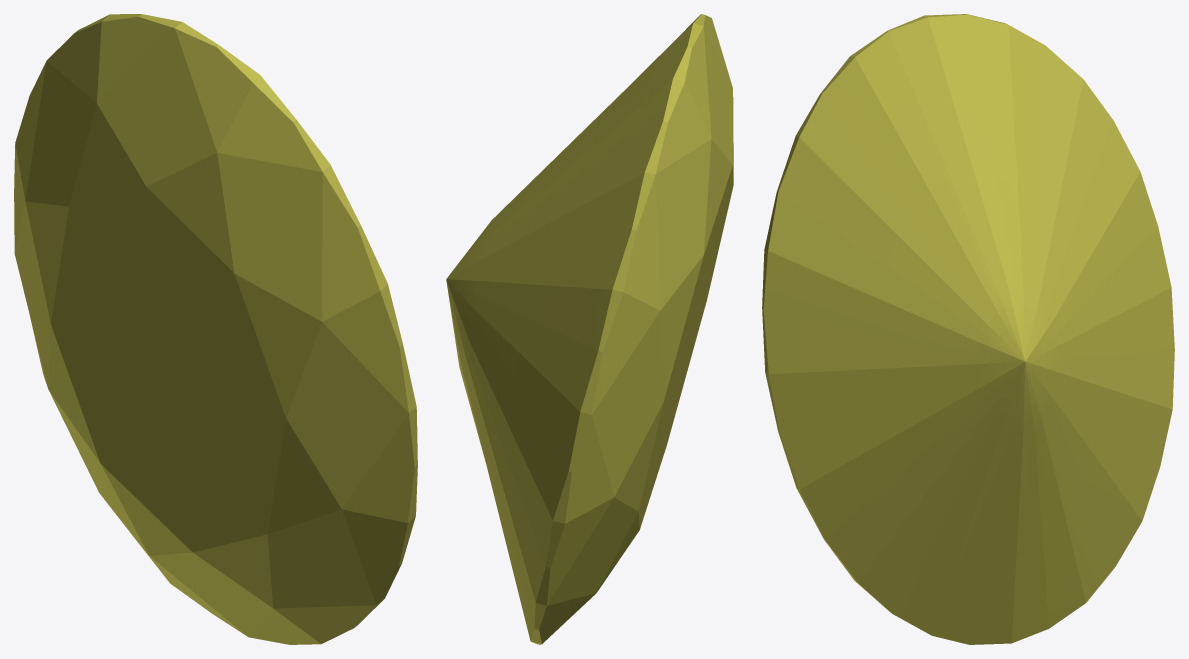
Rendered from TL5_8shapes_Oval_Classic_Stone.001 2.glb.
3 renders of one model, left to right at view 1: azimuth 30°, elevation 25°; view 2: azimuth 150°, elevation 25°; view 3: azimuth 270°, elevation 25°, orthographic. The views are drawn at different scales.
Visible parts, largest first — view 1: TL5_8shapes_Oval_Classic_Stone.001; view 2: TL5_8shapes_Oval_Classic_Stone.001; view 3: TL5_8shapes_Oval_Classic_Stone.001.
Boxes of the visible parts, bbox=[...] form: TL5_8shapes_Oval_Classic_Stone.001: bbox=[14, 14, 417, 644]; TL5_8shapes_Oval_Classic_Stone.001: bbox=[446, 14, 733, 644]; TL5_8shapes_Oval_Classic_Stone.001: bbox=[762, 14, 1174, 644].
Bounding box in the file's own units: 0.2441 × 0.5612 × 0.364.
